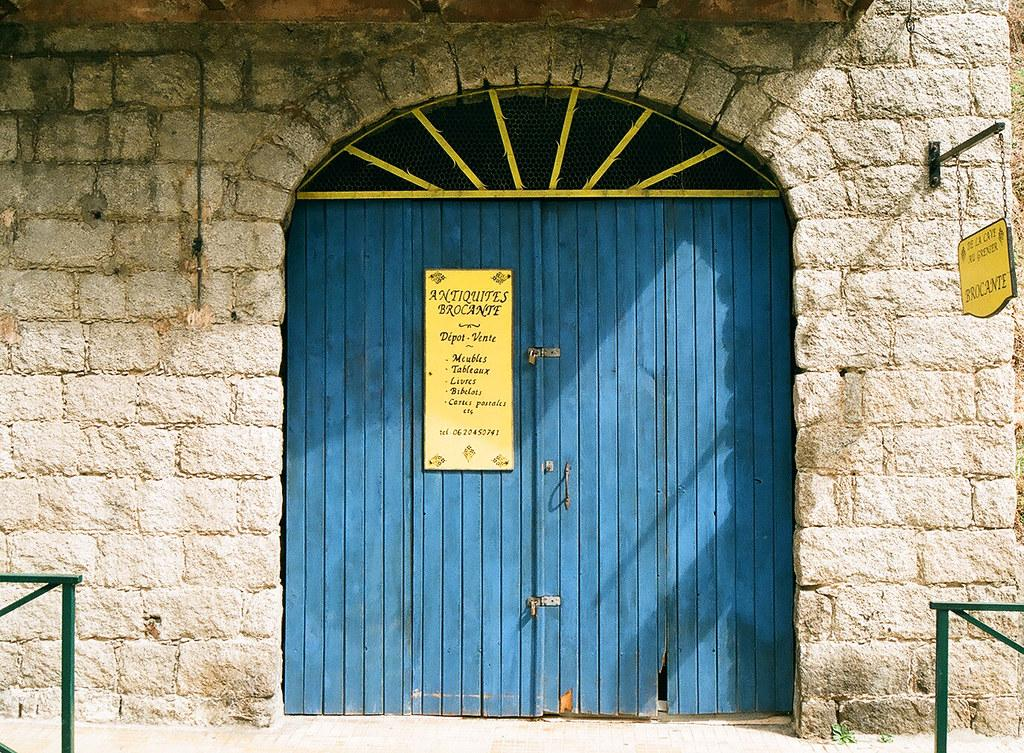door: (283, 193, 796, 721)
